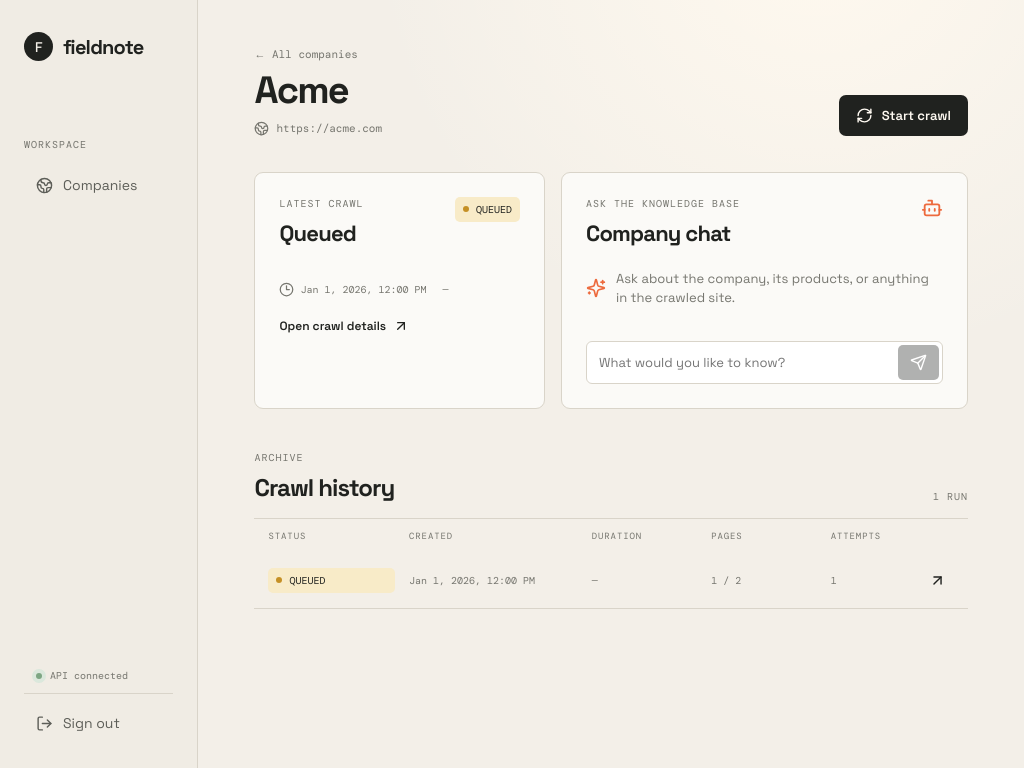
Scenario: authenticated product shell › polls an active crawl and stops when it reaches a terminal status
Expected: the heading "Queued" is shown, [279, 219, 363, 247]
Click the button "Open crawl details" at x=344, y=326, box [279, 318, 409, 334]
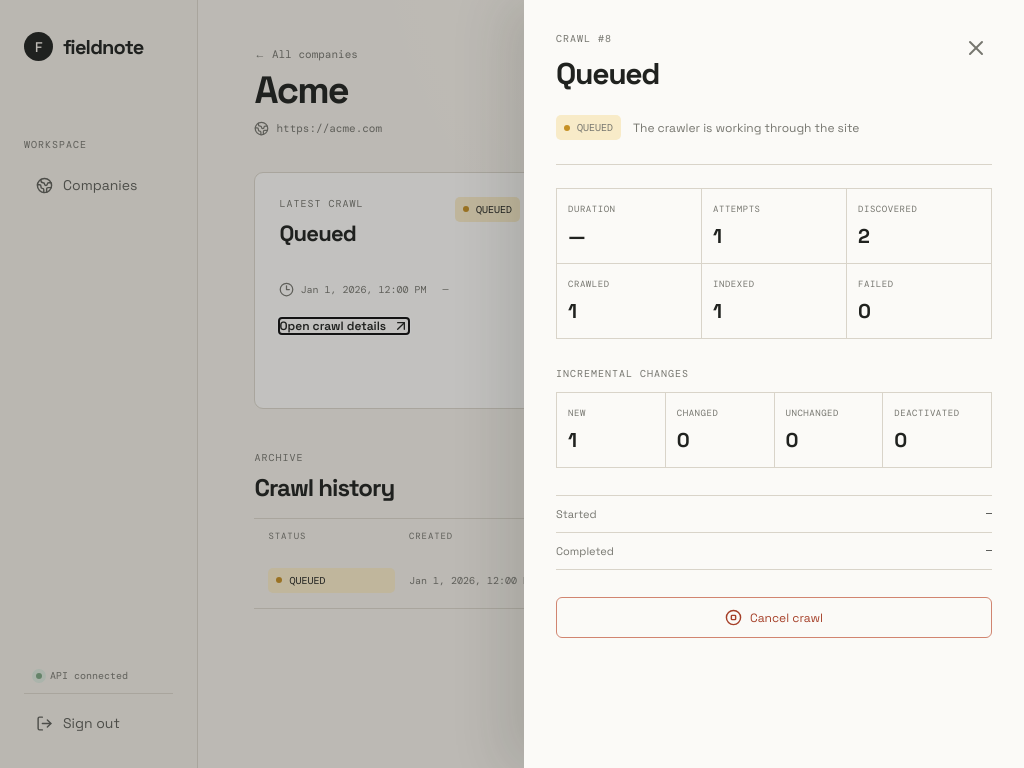
Expected: the text "Completed" is shown, [556, 544, 614, 558]
